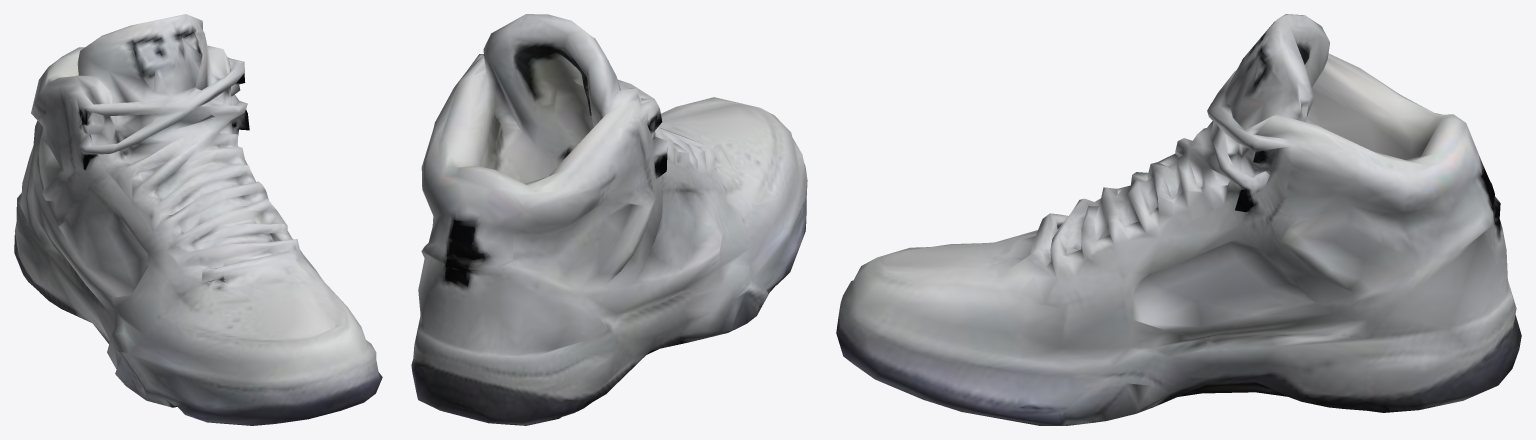
File: shoe.glb
3 views of the same model, side by side, from view 1: azimuth 30°, elevation 25°; view 2: azimuth 150°, elevation 25°; view 3: azimuth 270°, elevation 25° (orthographic). The views are drawn at different scales.
Parts seen in each view (by area): view 1: shoe; view 2: shoe; view 3: shoe.
Part boxes in pixels (left/top/right/bottom): shoe: left=14, top=14, right=382, bottom=425; shoe: left=411, top=14, right=807, bottom=425; shoe: left=836, top=14, right=1521, bottom=425.
Bounding box in the file's own units: 0.3768 × 0.5931 × 1.
Materials: 1 (1 with a texture image).
